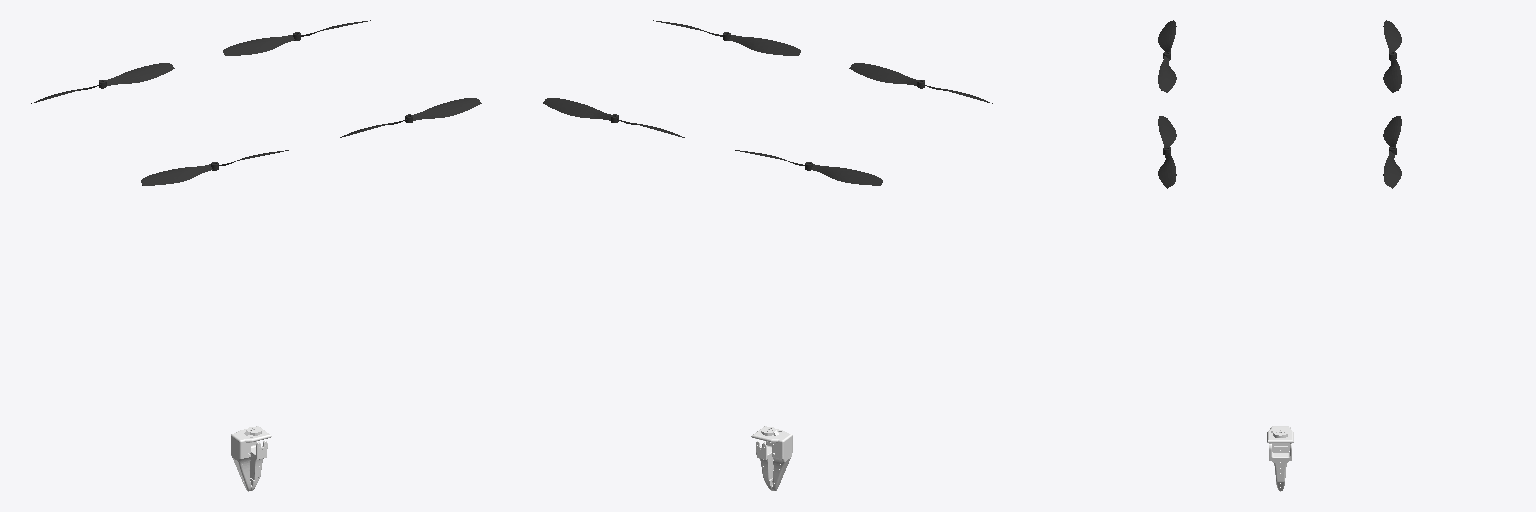
robot.urdf — x500_arm_v1:
<?xml version="1.0" encoding="utf-8"?>
<!-- This URDF was automatically created by SolidWorks to URDF Exporter! Originally created by Stephen Brawner (brawner@gmail.com)
     Commit Version: 1.6.0-4-g7f85cfe  Build Version: 1.6.7995.38578
     For more information, please see http://wiki.ros.org/sw_urdf_exporter -->
<robot
  name="x500_arm_v1">
  <link
    name="world"/>
  <joint
    name="floating_base_joint"
    type="floating">
    <origin
      xyz="0 0 0"
      rpy="0 0 0" />
    <parent
      link="world" />
    <child
      link="base_link" />
  </joint>
  <link
    name="base_link">
    <inertial>
      <origin
        xyz="0.01654364 0.00023483 -0.0394339"
        rpy="0 0 0" />
      <mass
        value="0.78189614" />
      <inertia
        ixx="0.01284604"
        ixy="6.92E-06"
        ixz="3.098E-05"
        iyy="0.01332481"
        iyz="-5.45E-06"
        izz="0.01691372" />
    </inertial>
    <visual>
      <origin
        xyz="0 0 0"
        rpy="0 0 0" />
      <geometry>
        <mesh
          filename="package://x500_arm_v1/meshes/base_link.STL" />
      </geometry>
      <material
        name="">
        <color
          rgba="1 1 1 1" />
      </material>
    </visual>
    <collision>
      <origin
        xyz="0 0 0"
        rpy="0 0 0" />
      <geometry>
        <mesh
          filename="package://x500_arm_v1/meshes/base_link.STL" />
      </geometry>
    </collision>
  </link>
  <link
    name="rotor_1">
    <inertial>
      <origin
        xyz="0 0 0.0062143"
        rpy="0 0 0" />
      <mass
        value="0.012" />
      <inertia
        ixx="4.6E-07"
        ixy="-1.68E-06"
        ixz="0"
        iyy="5.76E-05"
        iyz="0"
        izz="5.789E-05" />
    </inertial>
    <visual>
      <origin
        xyz="0 0 0"
        rpy="0 0 0" />
      <geometry>
        <mesh
          filename="package://x500_arm_v1/meshes/rotor_1.STL" />
      </geometry>
      <material
        name="">
        <color
          rgba="0.25098 0.25098 0.25098 1" />
      </material>
    </visual>
    <collision>
      <origin
        xyz="0 0 0"
        rpy="0 0 0" />
      <geometry>
        <mesh
          filename="package://x500_arm_v1/meshes/rotor_1.STL" />
      </geometry>
    </collision>
  </link>
  <joint
    name="rotor_joint_1"
    type="continuous">
    <origin
      xyz="0.18164 -0.17688 0.056"
      rpy="0 0 0" />
    <parent
      link="base_link" />
    <child
      link="rotor_1" />
    <axis
      xyz="0 0 1" />
    <limit
      effort="0.18"
      velocity="1032.2" />
  </joint>
  <link
    name="rotor_2">
    <inertial>
      <origin
        xyz="0 0 0.0062122"
        rpy="0 0 0" />
      <mass
        value="0.012" />
      <inertia
        ixx="4.6E-07"
        ixy="1.69E-06"
        ixz="0"
        iyy="5.763E-05"
        iyz="0"
        izz="5.793E-05" />
    </inertial>
    <visual>
      <origin
        xyz="0 0 0"
        rpy="0 0 0" />
      <geometry>
        <mesh
          filename="package://x500_arm_v1/meshes/rotor_2.STL" />
      </geometry>
      <material
        name="">
        <color
          rgba="0.25098 0.25098 0.25098 1" />
      </material>
    </visual>
    <collision>
      <origin
        xyz="0 0 0"
        rpy="0 0 0" />
      <geometry>
        <mesh
          filename="package://x500_arm_v1/meshes/rotor_2.STL" />
      </geometry>
    </collision>
  </link>
  <joint
    name="rotor_joint_2"
    type="continuous">
    <origin
      xyz="0.18164 0.17688 0.056"
      rpy="0 0 0" />
    <parent
      link="base_link" />
    <child
      link="rotor_2" />
    <axis
      xyz="0 0 1" />
    <limit
      effort="0.18"
      velocity="1032.2" />
  </joint>
  <link
    name="rotor_3">
    <inertial>
      <origin
        xyz="0 0 0.0062143"
        rpy="0 0 0" />
      <mass
        value="0.012" />
      <inertia
        ixx="4.6E-07"
        ixy="-1.68E-06"
        ixz="0"
        iyy="5.76E-05"
        iyz="0"
        izz="5.789E-05" />
    </inertial>
    <visual>
      <origin
        xyz="0 0 0"
        rpy="0 0 0" />
      <geometry>
        <mesh
          filename="package://x500_arm_v1/meshes/rotor_3.STL" />
      </geometry>
      <material
        name="">
        <color
          rgba="0.25098 0.25098 0.25098 1" />
      </material>
    </visual>
    <collision>
      <origin
        xyz="0 0 0"
        rpy="0 0 0" />
      <geometry>
        <mesh
          filename="package://x500_arm_v1/meshes/rotor_3.STL" />
      </geometry>
    </collision>
  </link>
  <joint
    name="rotor_joint_3"
    type="continuous">
    <origin
      xyz="-0.17212 0.17688 0.056"
      rpy="0 0 0" />
    <parent
      link="base_link" />
    <child
      link="rotor_3" />
    <axis
      xyz="0 0 1" />
    <limit
      effort="0.18"
      velocity="1032.2" />
  </joint>
  <link
    name="rotor_4">
    <inertial>
      <origin
        xyz="0 0 0.00621224"
        rpy="0 0 0" />
      <mass
        value="0.012" />
      <inertia
        ixx="4.6E-07"
        ixy="1.69E-06"
        ixz="0"
        iyy="5.763E-05"
        iyz="0"
        izz="5.793E-05" />
    </inertial>
    <visual>
      <origin
        xyz="0 0 0"
        rpy="0 0 0" />
      <geometry>
        <mesh
          filename="package://x500_arm_v1/meshes/rotor_4.STL" />
      </geometry>
      <material
        name="">
        <color
          rgba="0.25098 0.25098 0.25098 1" />
      </material>
    </visual>
    <collision>
      <origin
        xyz="0 0 0"
        rpy="0 0 0" />
      <geometry>
        <mesh
          filename="package://x500_arm_v1/meshes/rotor_4.STL" />
      </geometry>
    </collision>
  </link>
  <joint
    name="rotor_joint_4"
    type="continuous">
    <origin
      xyz="-0.17212 -0.17688 0.056"
      rpy="0 0 0" />
    <parent
      link="base_link" />
    <child
      link="rotor_4" />
    <axis
      xyz="0 0 1" />
    <limit
      effort="0.18"
      velocity="1032.2" />
  </joint>
  <link
    name="link_1">
    <inertial>
      <origin
        xyz="0 0.0015687 -0.034602"
        rpy="0 0 0" />
      <mass
        value="0.08581" />
      <inertia
        ixx="3.717E-05"
        ixy="0"
        ixz="0"
        iyy="3.006E-05"
        iyz="9E-07"
        izz="1.849E-05" />
    </inertial>
    <visual>
      <origin
        xyz="0 0 0"
        rpy="0 0 0" />
      <geometry>
        <mesh
          filename="package://x500_arm_v1/meshes/link_1.STL" />
      </geometry>
      <material
        name="">
        <color
          rgba="1 1 1 1" />
      </material>
    </visual>
    <collision>
      <origin
        xyz="0 0 0"
        rpy="0 0 0" />
      <geometry>
        <mesh
          filename="package://x500_arm_v1/meshes/link_1.STL" />
      </geometry>
    </collision>
  </link>
  <joint
    name="joint_1"
    type="revolute">
    <origin
      xyz="0 0 -0.10331"
      rpy="0 0 0" />
    <parent
      link="base_link" />
    <child
      link="link_1" />
    <axis
      xyz="0 0 1" />
    <limit
      lower="-2.8973"
      upper="2.8973"
      effort="3.43"
      velocity="4.72" />
    <dynamics
      damping="0.72763"
      friction="0.068647" />
  </joint>
  <link
    name="link_2">
    <inertial>
      <origin
        xyz="-0.0260946 -0.13096995 0.00115046"
        rpy="0 0 0" />
      <mass
        value="0.11524" />
      <inertia
        ixx="0.00023289"
        ixy="-6.19E-05"
        ixz="1.32E-06"
        iyy="6.034E-05"
        iyz="2.87E-06"
        izz="0.00025434" />
    </inertial>
    <visual>
      <origin
        xyz="0 0 0"
        rpy="0 0 0" />
      <geometry>
        <mesh
          filename="package://x500_arm_v1/meshes/link_2.STL" />
      </geometry>
      <material
        name="">
        <color
          rgba="0.79216 0.81961 0.93333 1" />
      </material>
    </visual>
    <collision>
      <origin
        xyz="0 0 0"
        rpy="0 0 0" />
      <geometry>
        <mesh
          filename="package://x500_arm_v1/meshes/link_2.STL" />
      </geometry>
    </collision>
  </link>
  <joint
    name="joint_2"
    type="revolute">
    <origin
      xyz="0 0 -0.04861"
      rpy="1.5708 0 3.1416" />
    <parent
      link="link_1" />
    <child
      link="link_2" />
    <axis
      xyz="0 0 1" />
    <limit
      lower="-1.7628"
      upper="1.7628"
      effort="4.9"
      velocity="8.95" />
    <dynamics
      damping="0.62275"
      friction="0.098067" />
  </joint>
  <link
    name="link_3">
    <inertial>
      <origin
        xyz="0.03950206 -0.10829022 0.00063991"
        rpy="0 0 0" />
      <mass
        value="0.0848" />
      <inertia
        ixx="0.00051159"
        ixy="2.503E-05"
        ixz="-1E-08"
        iyy="2.009E-05"
        iyz="5.6E-07"
        izz="0.00051731" />
    </inertial>
    <visual>
      <origin
        xyz="0 0 0"
        rpy="0 0 0" />
      <geometry>
        <mesh
          filename="package://x500_arm_v1/meshes/link_3.STL" />
      </geometry>
      <material
        name="">
        <color
          rgba="1 1 1 1" />
      </material>
    </visual>
    <collision>
      <origin
        xyz="0 0 0"
        rpy="0 0 0" />
      <geometry>
        <mesh
          filename="package://x500_arm_v1/meshes/link_3.STL" />
      </geometry>
    </collision>
  </link>
  <joint
    name="joint_3"
    type="revolute">
    <origin
      xyz="-0.03814 -0.164 0.0002"
      rpy="0 0 0" />
    <parent
      link="link_2" />
    <child
      link="link_3" />
    <axis
      xyz="0 0 1" />
    <limit
      lower="0"
      upper="3.5186"
      effort="3.43"
      velocity="4.72" />
    <dynamics
      damping="0.72763"
      friction="0.068647" />
  </joint>
  <link
    name="link_4">
    <inertial>
      <origin
        xyz="-0.01811211 -5.48E-06 0.03174419"
        rpy="0 0 0" />
      <mass
        value="0.01547" />
      <inertia
        ixx="1.04E-05"
        ixy="0"
        ixz="1.25E-06"
        iyy="1.17E-05"
        iyz="-1E-08"
        izz="3.72E-06" />
    </inertial>
    <visual>
      <origin
        xyz="0 0 0"
        rpy="0 0 0" />
      <geometry>
        <mesh
          filename="package://x500_arm_v1/meshes/link_4.STL" />
      </geometry>
      <material
        name="">
        <color
          rgba="1 1 1 1" />
      </material>
    </visual>
    <collision>
      <origin
        xyz="0 0 0"
        rpy="0 0 0" />
      <geometry>
        <mesh
          filename="package://x500_arm_v1/meshes/link_4.STL" />
      </geometry>
    </collision>
  </link>
  <joint
    name="joint_4"
    type="revolute">
    <origin
      xyz="0.03582 -0.1935 0.00077"
      rpy="-1.5708 0 -3.1416" />
    <parent
      link="link_3" />
    <child
      link="link_4" />
    <axis
      xyz="0 0 1" />
    <limit
      lower="-2.8973"
      upper="2.8973"
      effort="1.39"
      velocity="10.47" />
    <dynamics
      damping="0.13298"
      friction="0.027851" />
  </joint>
  <link
    name="link_5">
    <inertial>
      <origin
        xyz="-0.0015718 0.03228008 -0.00038534"
        rpy="0 0 0" />
      <mass
        value="0.00926" />
      <inertia
        ixx="4.4E-06"
        ixy="2.7E-07"
        ixz="0"
        iyy="9.8E-07"
        iyz="-1E-07"
        izz="3.87E-06" />
    </inertial>
    <visual>
      <origin
        xyz="0 0 0"
        rpy="0 0 0" />
      <geometry>
        <mesh
          filename="package://x500_arm_v1/meshes/link_5.STL" />
      </geometry>
      <material
        name="">
        <color
          rgba="1 1 1 1" />
      </material>
    </visual>
    <collision>
      <origin
        xyz="0 0 0"
        rpy="0 0 0" />
      <geometry>
        <mesh
          filename="package://x500_arm_v1/meshes/link_5.STL" />
      </geometry>
    </collision>
  </link>
  <joint
    name="joint_5"
    type="revolute">
    <origin
      xyz="0.0044 0 0.02243"
      rpy="1.5708 0 0" />
    <parent
      link="link_4" />
    <child
      link="link_5" />
    <axis
      xyz="0 0 1" />
    <limit
      lower="0"
      upper="1.7628"
      effort="1.47"
      velocity="7.13" />
    <dynamics
      damping="0.13298"
      friction="0.027851" />
  </joint>
</robot>

--- What the picture shows (computed from the rendered views, not written in the file) ---
3 views of the same robot in one strip: view 1: azimuth 30°, elevation 25°; view 2: azimuth 150°, elevation 25°; view 3: azimuth 270°, elevation 25° (orthographic).
Robot: x500_arm_v1 — 11 links, 10 joints (5 revolute, 4 continuous, 1 floating); root link world; default pose: all joints at 0.
Links seen in each view (by area): view 1: link_4, rotor_3, rotor_1, rotor_4, rotor_2, link_5; view 2: link_4, rotor_2, rotor_4, rotor_1, rotor_3, link_5; view 3: rotor_3, rotor_4, rotor_1, rotor_2, link_4, link_5.
Link boxes in pixels (x1,y1,x2,y2): link_4: (231, 426, 271, 491); rotor_3: (31, 63, 174, 103); rotor_1: (340, 98, 481, 137); rotor_4: (141, 150, 288, 185); rotor_2: (223, 20, 370, 55); link_5: (250, 441, 267, 490); link_4: (751, 426, 792, 490); rotor_2: (543, 98, 684, 137); rotor_4: (849, 63, 992, 103); rotor_1: (653, 20, 800, 55); rotor_3: (735, 150, 882, 185); link_5: (756, 441, 773, 490); rotor_3: (1383, 20, 1401, 92); rotor_4: (1158, 20, 1176, 92); rotor_1: (1158, 116, 1176, 188); rotor_2: (1383, 116, 1401, 188); link_4: (1267, 426, 1293, 452); link_5: (1269, 443, 1291, 491).
Size in the robot's own frame: 0.6162 by 0.383 by 0.6804 metres.
Meshes: 10 distinct files referenced, 6 mesh visuals loaded (6 binary STL); not drawn: 4 (reference not matched to a file when rendering).
